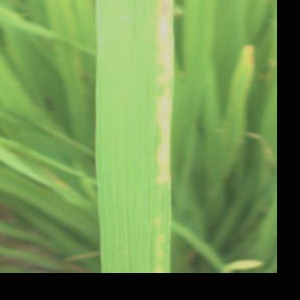Leaf_Blast: (92, 0, 173, 273)
